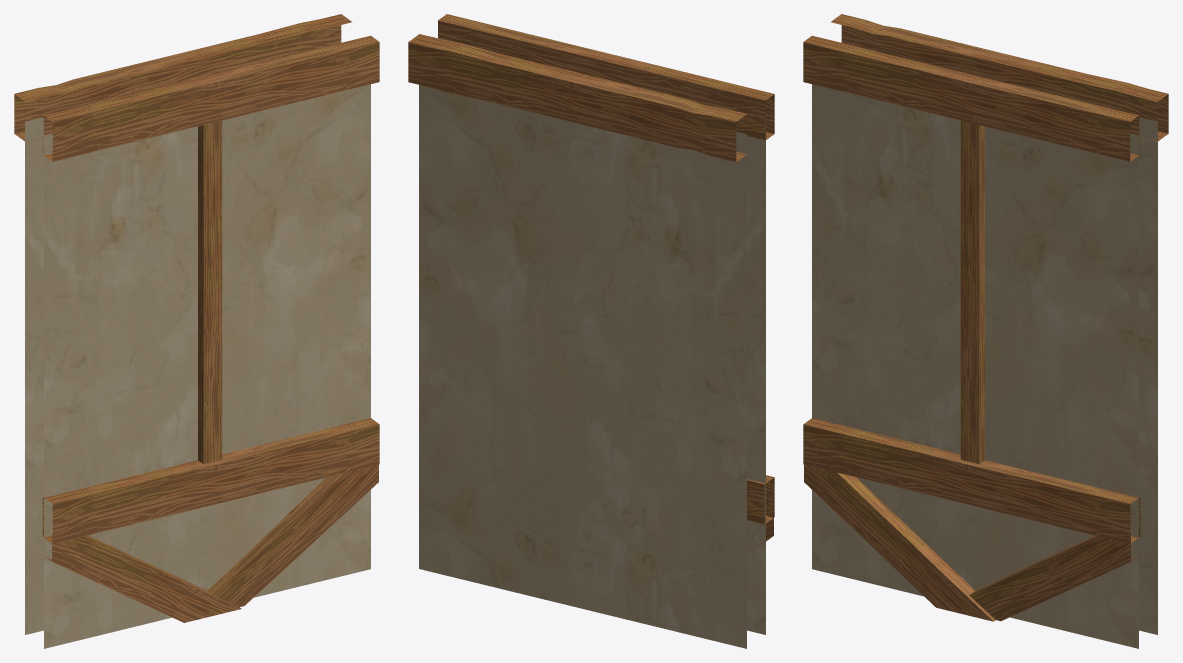
The model's file is Wall_Plaster_Straight.glb.
The picture shows the model from 3 angles, left to right: view 1: azimuth 30°, elevation 25°; view 2: azimuth 150°, elevation 25°; view 3: azimuth 330°, elevation 25°; orthographic projection.
Parts seen in each view (by area): view 1: Wall_Plaster_Straight; view 2: Wall_Plaster_Straight; view 3: Wall_Plaster_Straight.
Part boxes in pixels (<box>): Wall_Plaster_Straight: <box>14,14,379,648</box>; Wall_Plaster_Straight: <box>408,14,774,648</box>; Wall_Plaster_Straight: <box>803,14,1168,648</box>.
Bounding box in the file's own units: 2 × 3.12 × 0.4065.
2 materials, 2 textured.
